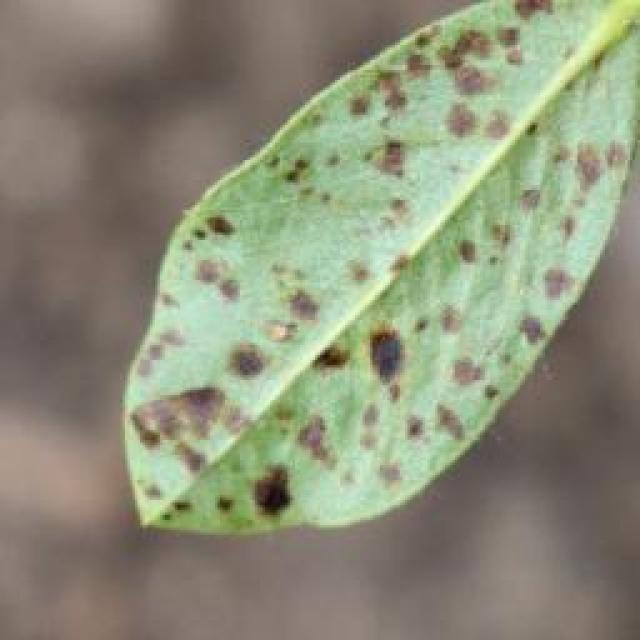Whitefly: (90, 0, 630, 560)
